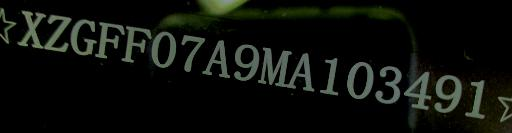letter: (255, 45, 295, 88), (15, 6, 49, 52), (430, 72, 468, 113), (147, 28, 181, 73), (228, 41, 264, 82), (199, 37, 233, 80), (92, 18, 126, 61), (344, 59, 378, 100), (286, 49, 318, 92), (373, 62, 405, 105), (42, 12, 74, 55), (118, 25, 152, 65), (403, 67, 433, 112), (177, 32, 209, 73), (464, 76, 492, 121), (70, 14, 96, 58), (318, 54, 342, 97)
